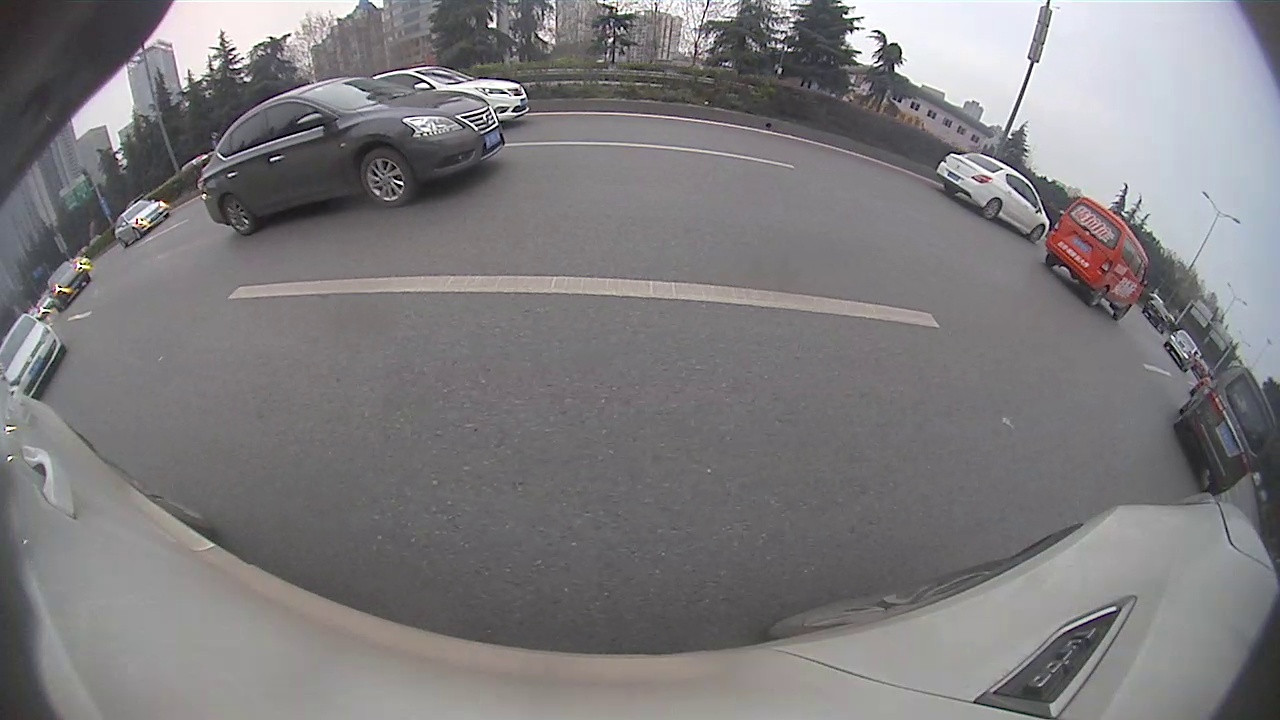car: (194, 75, 506, 236), (1175, 365, 1277, 496), (1044, 195, 1150, 320), (935, 150, 1051, 245), (2, 313, 65, 401), (1167, 330, 1199, 375)
front: (359, 146, 415, 210), (1027, 222, 1046, 247)
rear: (223, 192, 255, 238), (981, 196, 1003, 222), (1086, 290, 1104, 310)
